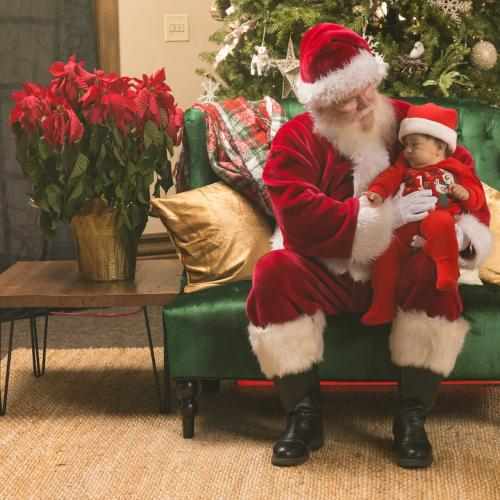Santa: (249, 19, 493, 480)
